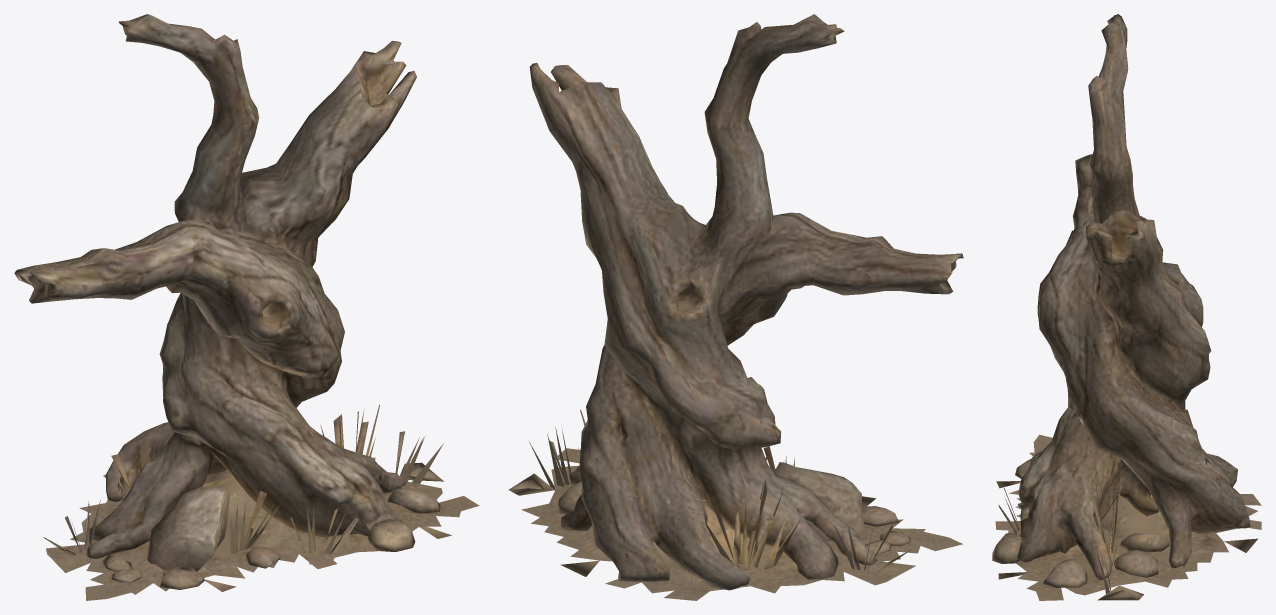
The model's file is tree_dead_b.glb.
3 renders of one model, left to right at view 1: azimuth 30°, elevation 25°; view 2: azimuth 150°, elevation 25°; view 3: azimuth 270°, elevation 25°, orthographic. The views are drawn at different scales.
Size of the model in its own units: 0.2529 by 0.3086 by 0.1616.
1 material, 1 textured.
